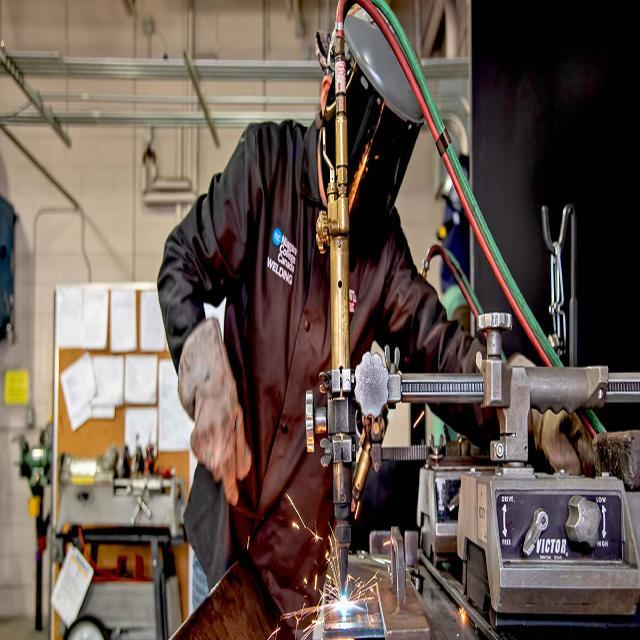with_helmet: (312, 9, 422, 232)
